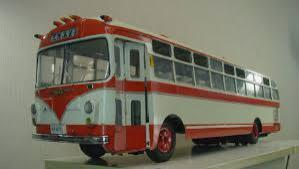bus: (34, 18, 283, 164)
